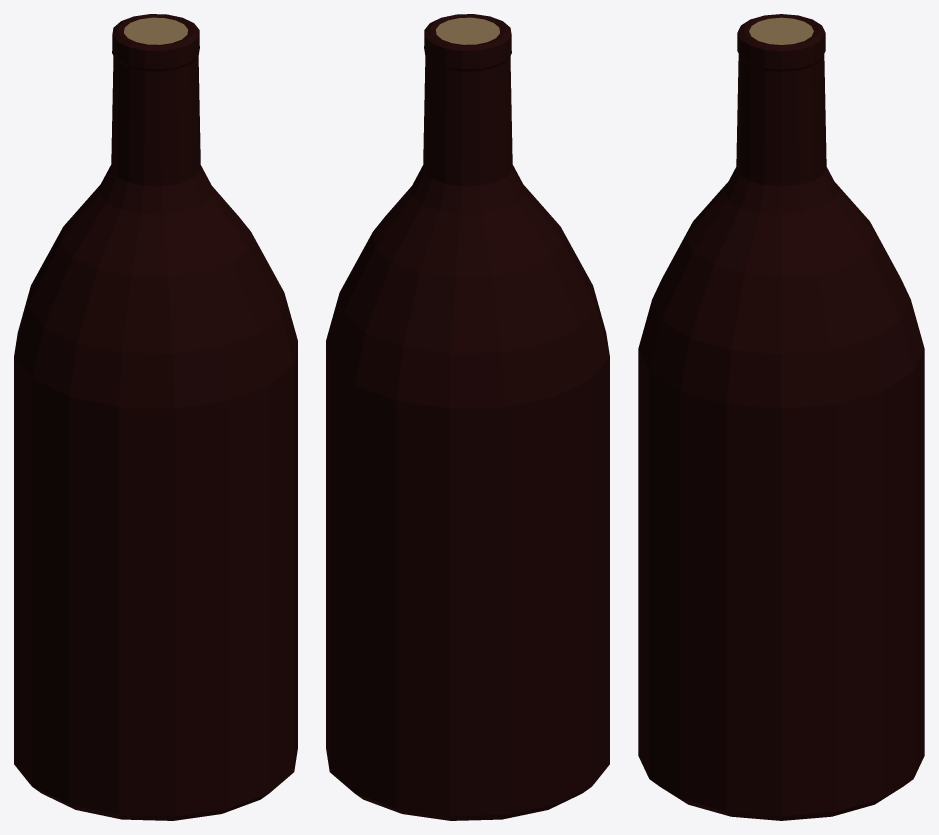
File: Wine_002.fbx
The picture shows the model from 3 angles, left to right: view 1: azimuth 30°, elevation 25°; view 2: azimuth 150°, elevation 25°; view 3: azimuth 270°, elevation 25°; orthographic projection.
Visible parts, largest first — view 1: wine_002; view 2: wine_002; view 3: wine_002.
Part boxes in pixels (box(x1,y1,x2,y2)): wine_002: box(14, 14, 297, 820); wine_002: box(326, 14, 609, 820); wine_002: box(638, 14, 924, 820).
Size of the model in its own units: 12 by 34.02 by 12.
